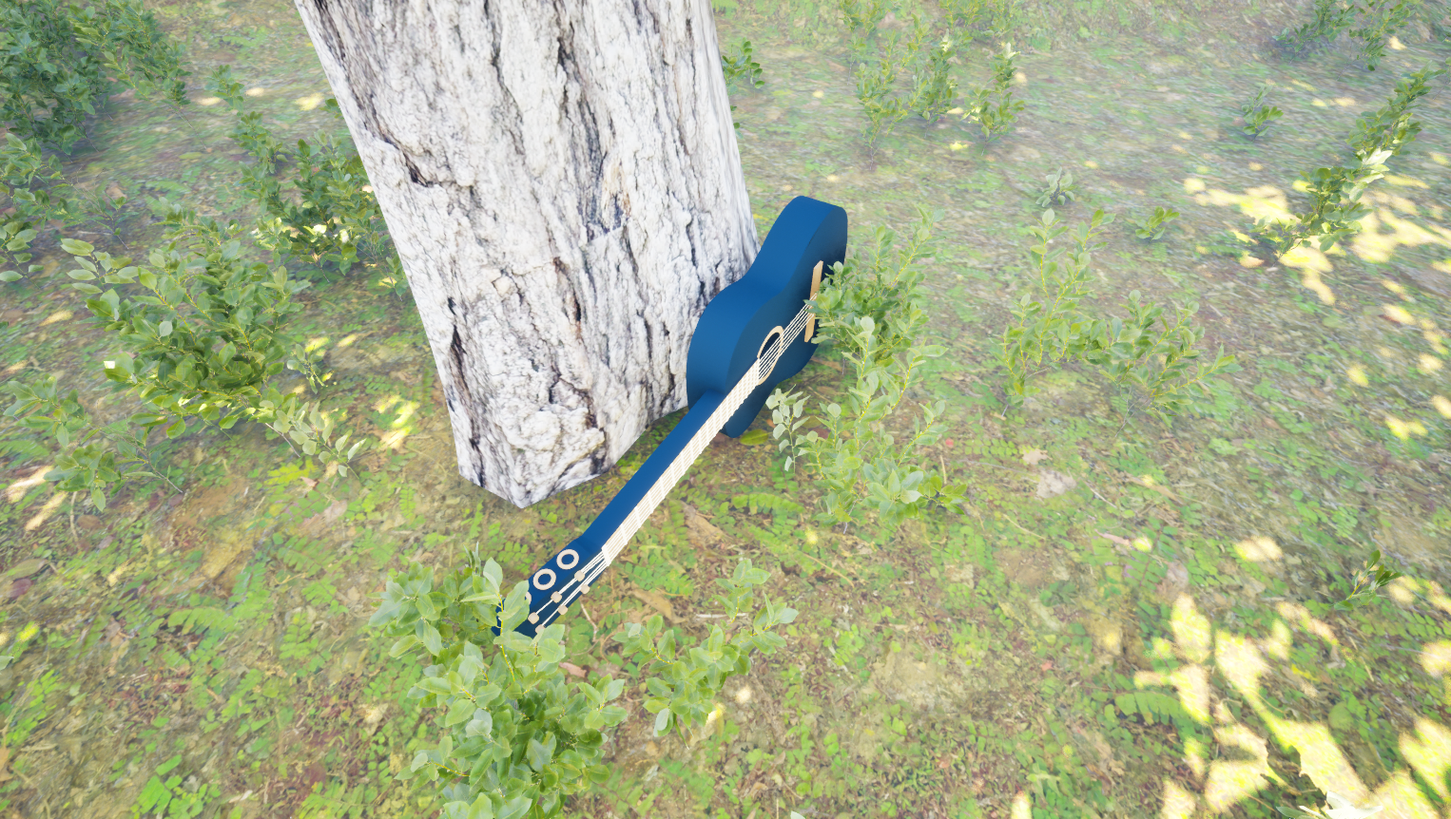Guitar: (423, 172, 861, 706)
